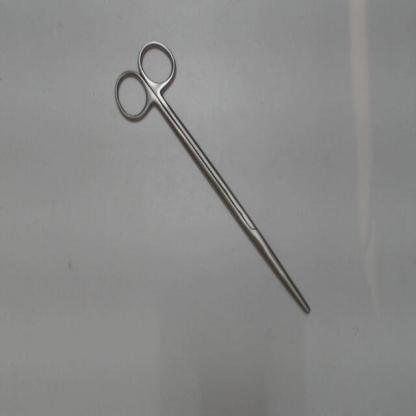9 Metzenbaum Scissors: (109, 29, 314, 320)
